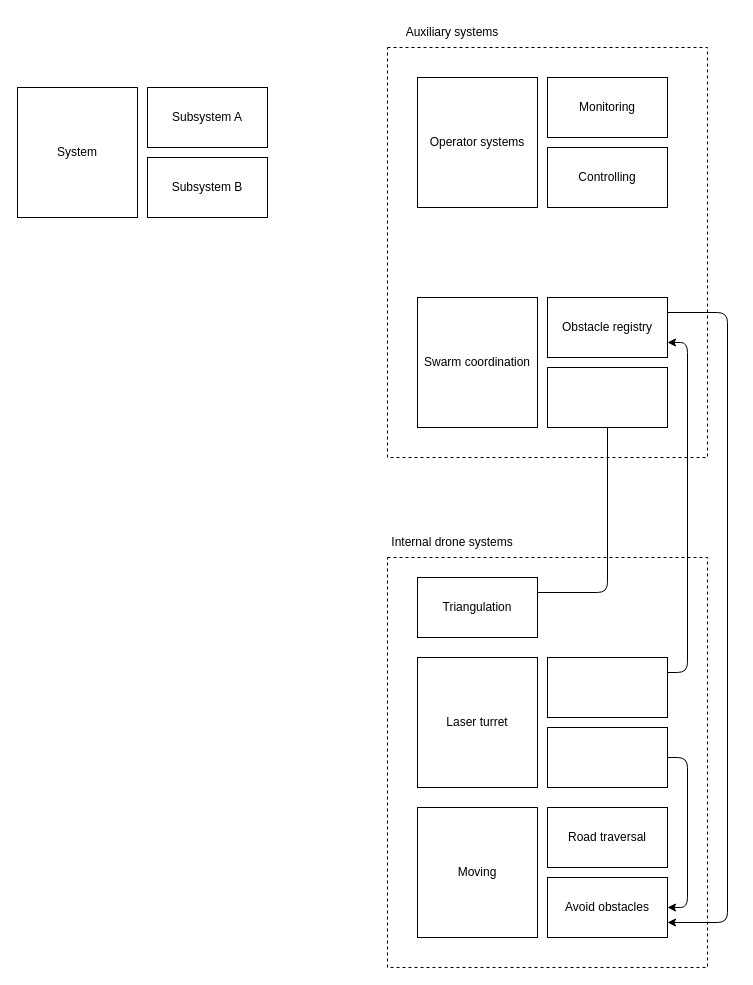
The diagram is 753 pixels wide and 985 high, and some of its shapes have lost their labels. Each missing label, with the centre of its shape:
Passive obstacle detection: pixel 607 757
Register obstacle: pixel 607 687
Time syncing: pixel 607 397
